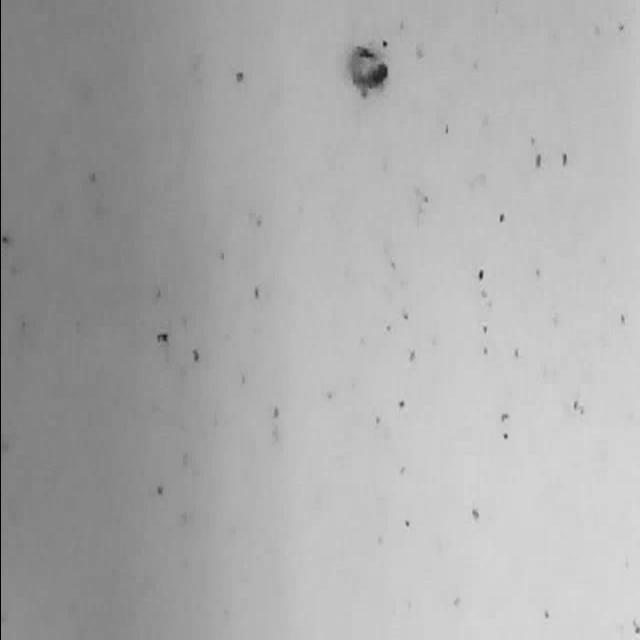larvas: (346, 46, 389, 102)
